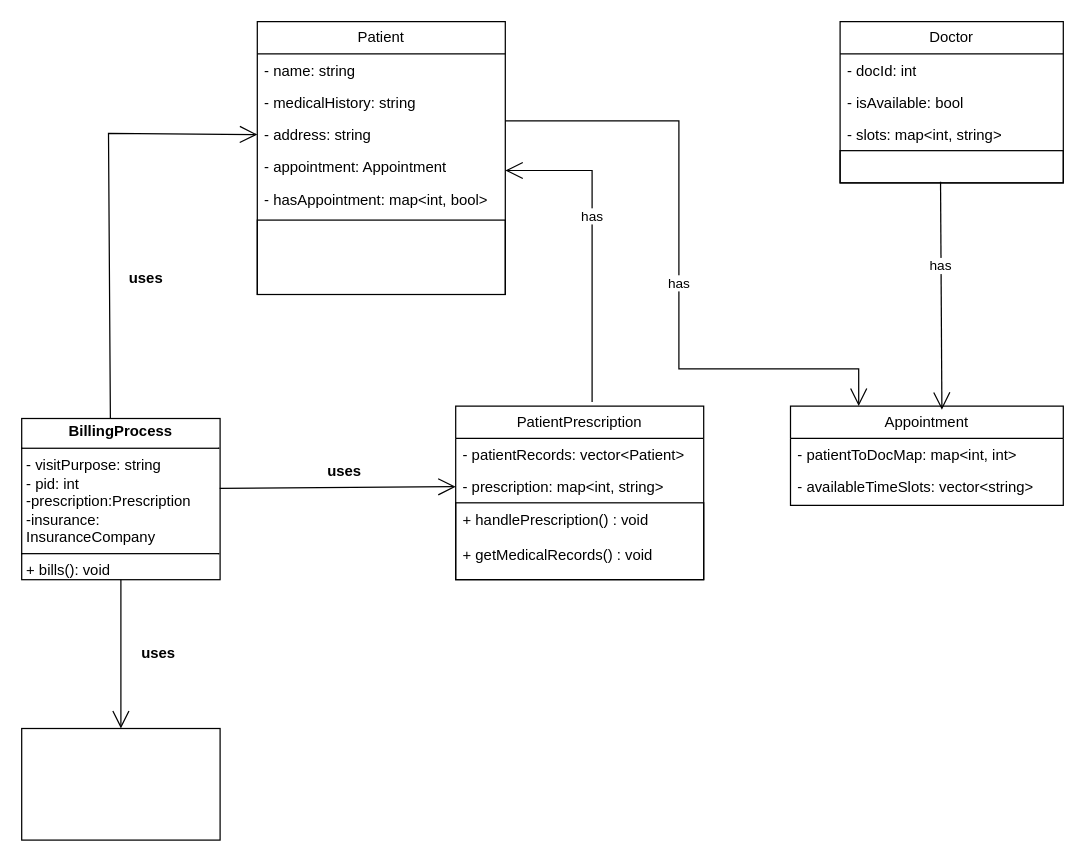
Image size: 1085x862. Some labels were removed from this diagram. Here are the shapes that lost their labels. From the top down, the centre of each, then its label:
At pixel 951 166: "+ to_json():JSON".
At pixel 380 256: "+ addToMedicalHistory() : void + to_json():JSON".
At pixel 120 783: "InsuranceCompany - database:JSON".
